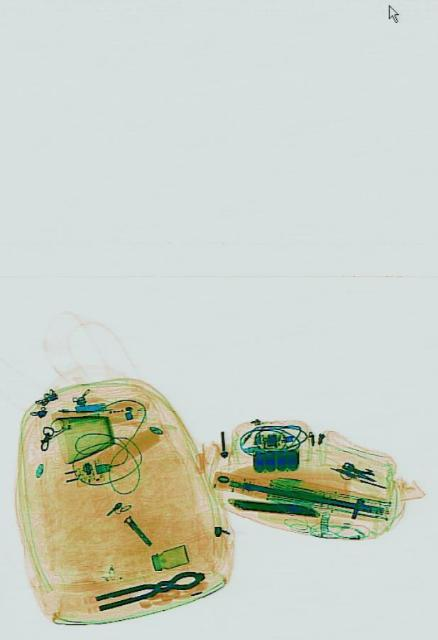Pliers: (93, 564, 202, 614)
